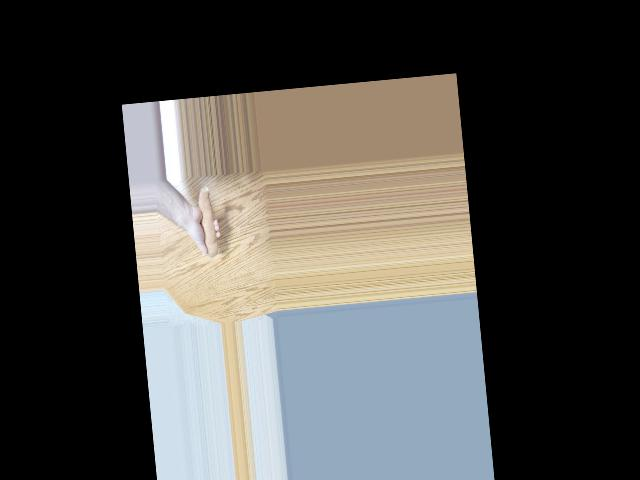sweet_potato: (192, 185, 222, 263)
